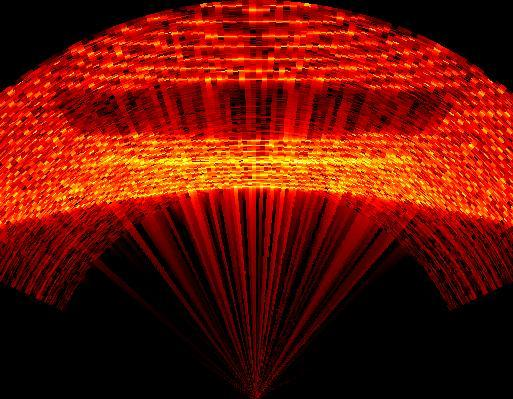pipe: (62, 77, 475, 174)
